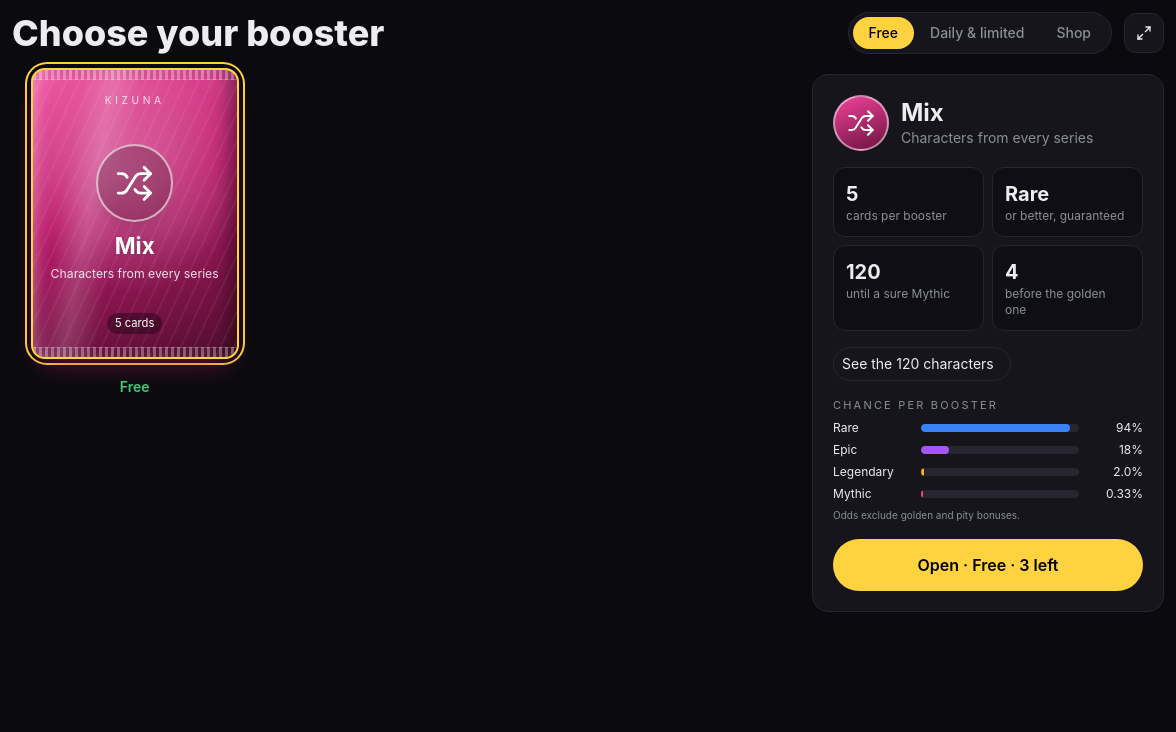
BoosterGrid › shows a reward badge on packs the player was granted
Click the tab "Shop". click: (1074, 33)
box: [1040,17,1107,49]
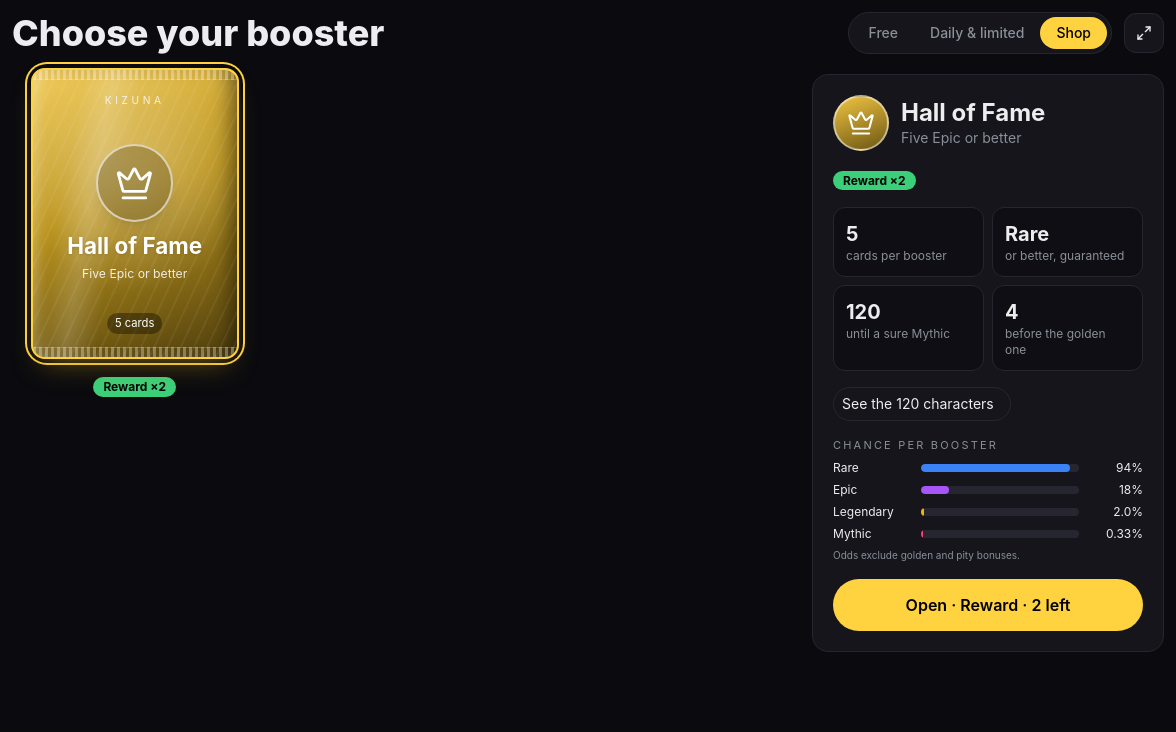
Expected: the 2nd text "Reward ×2" is shown, [93,377,176,397]
Click the tab "Daily & limited". click: (977, 33)
box: [914,17,1040,49]
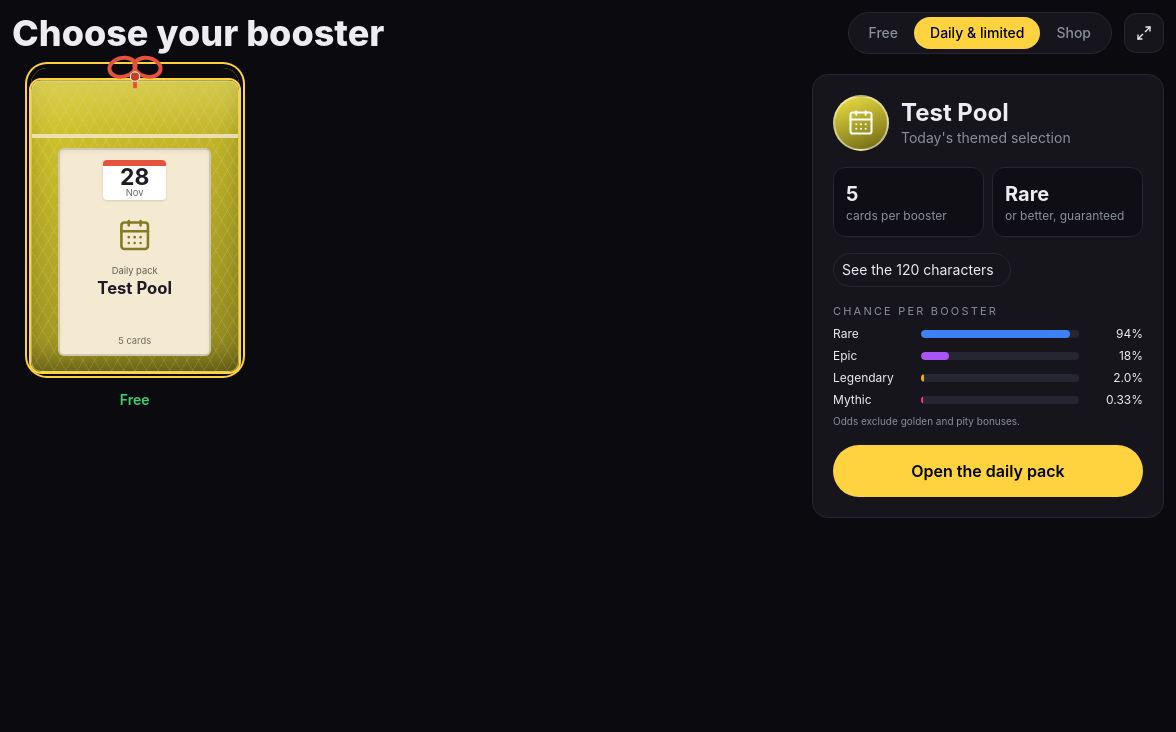
Expected: the text "Reward ×" is gone
